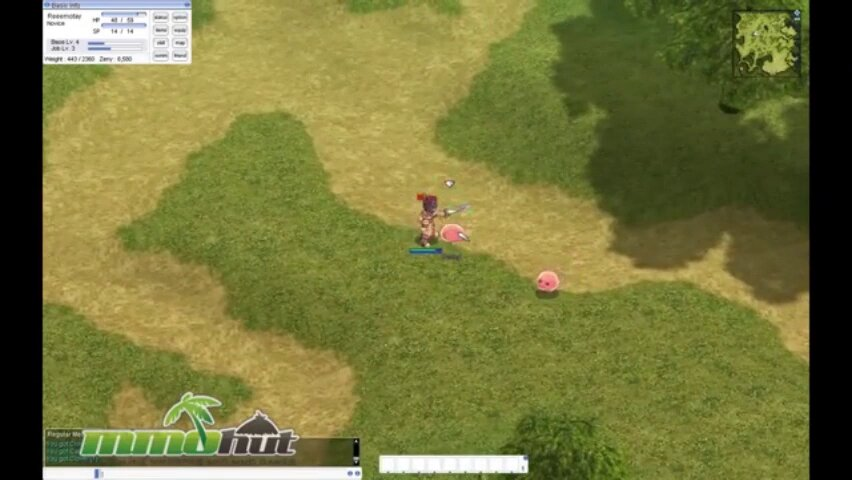Monster01: (526, 267, 573, 298), (439, 221, 468, 245)
